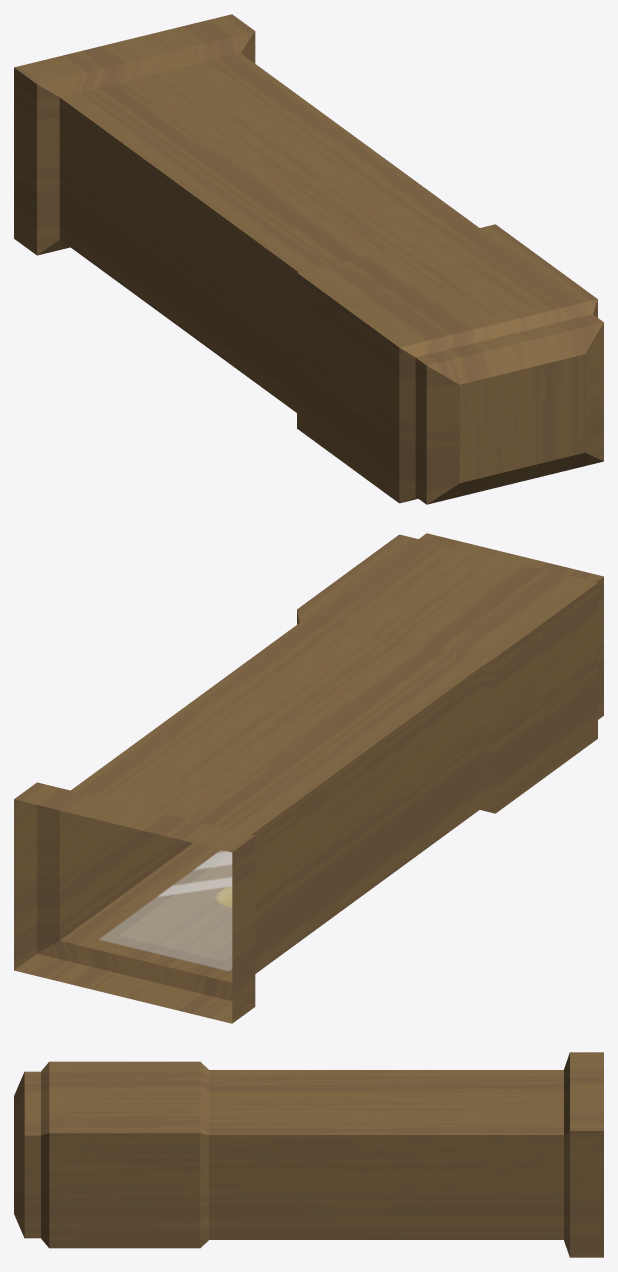
The model's file is grandfather-clock.obj.
3 views of the same model, one above another, from view 1: azimuth 30°, elevation 25°; view 2: azimuth 150°, elevation 25°; view 3: azimuth 270°, elevation 25° (orthographic). The views are drawn at different scales.
Parts seen in each view (by area): view 1: Plane; view 2: Plane; view 3: Plane.
Part boxes in pixels (box(x1,y1,x2,y2)): Plane: box(14, 14, 603, 504); Plane: box(14, 533, 603, 1023); Plane: box(14, 1052, 603, 1257).
Size of the model in its own units: 0.6 by 0.45 by 1.9.
1 material, 1 textured.
